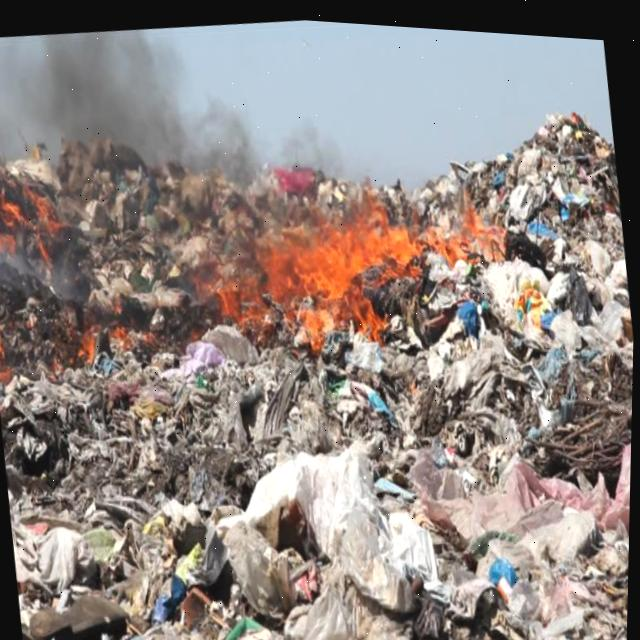fire: (0, 139, 505, 347), (0, 165, 92, 380)
smoke: (0, 16, 614, 179)
